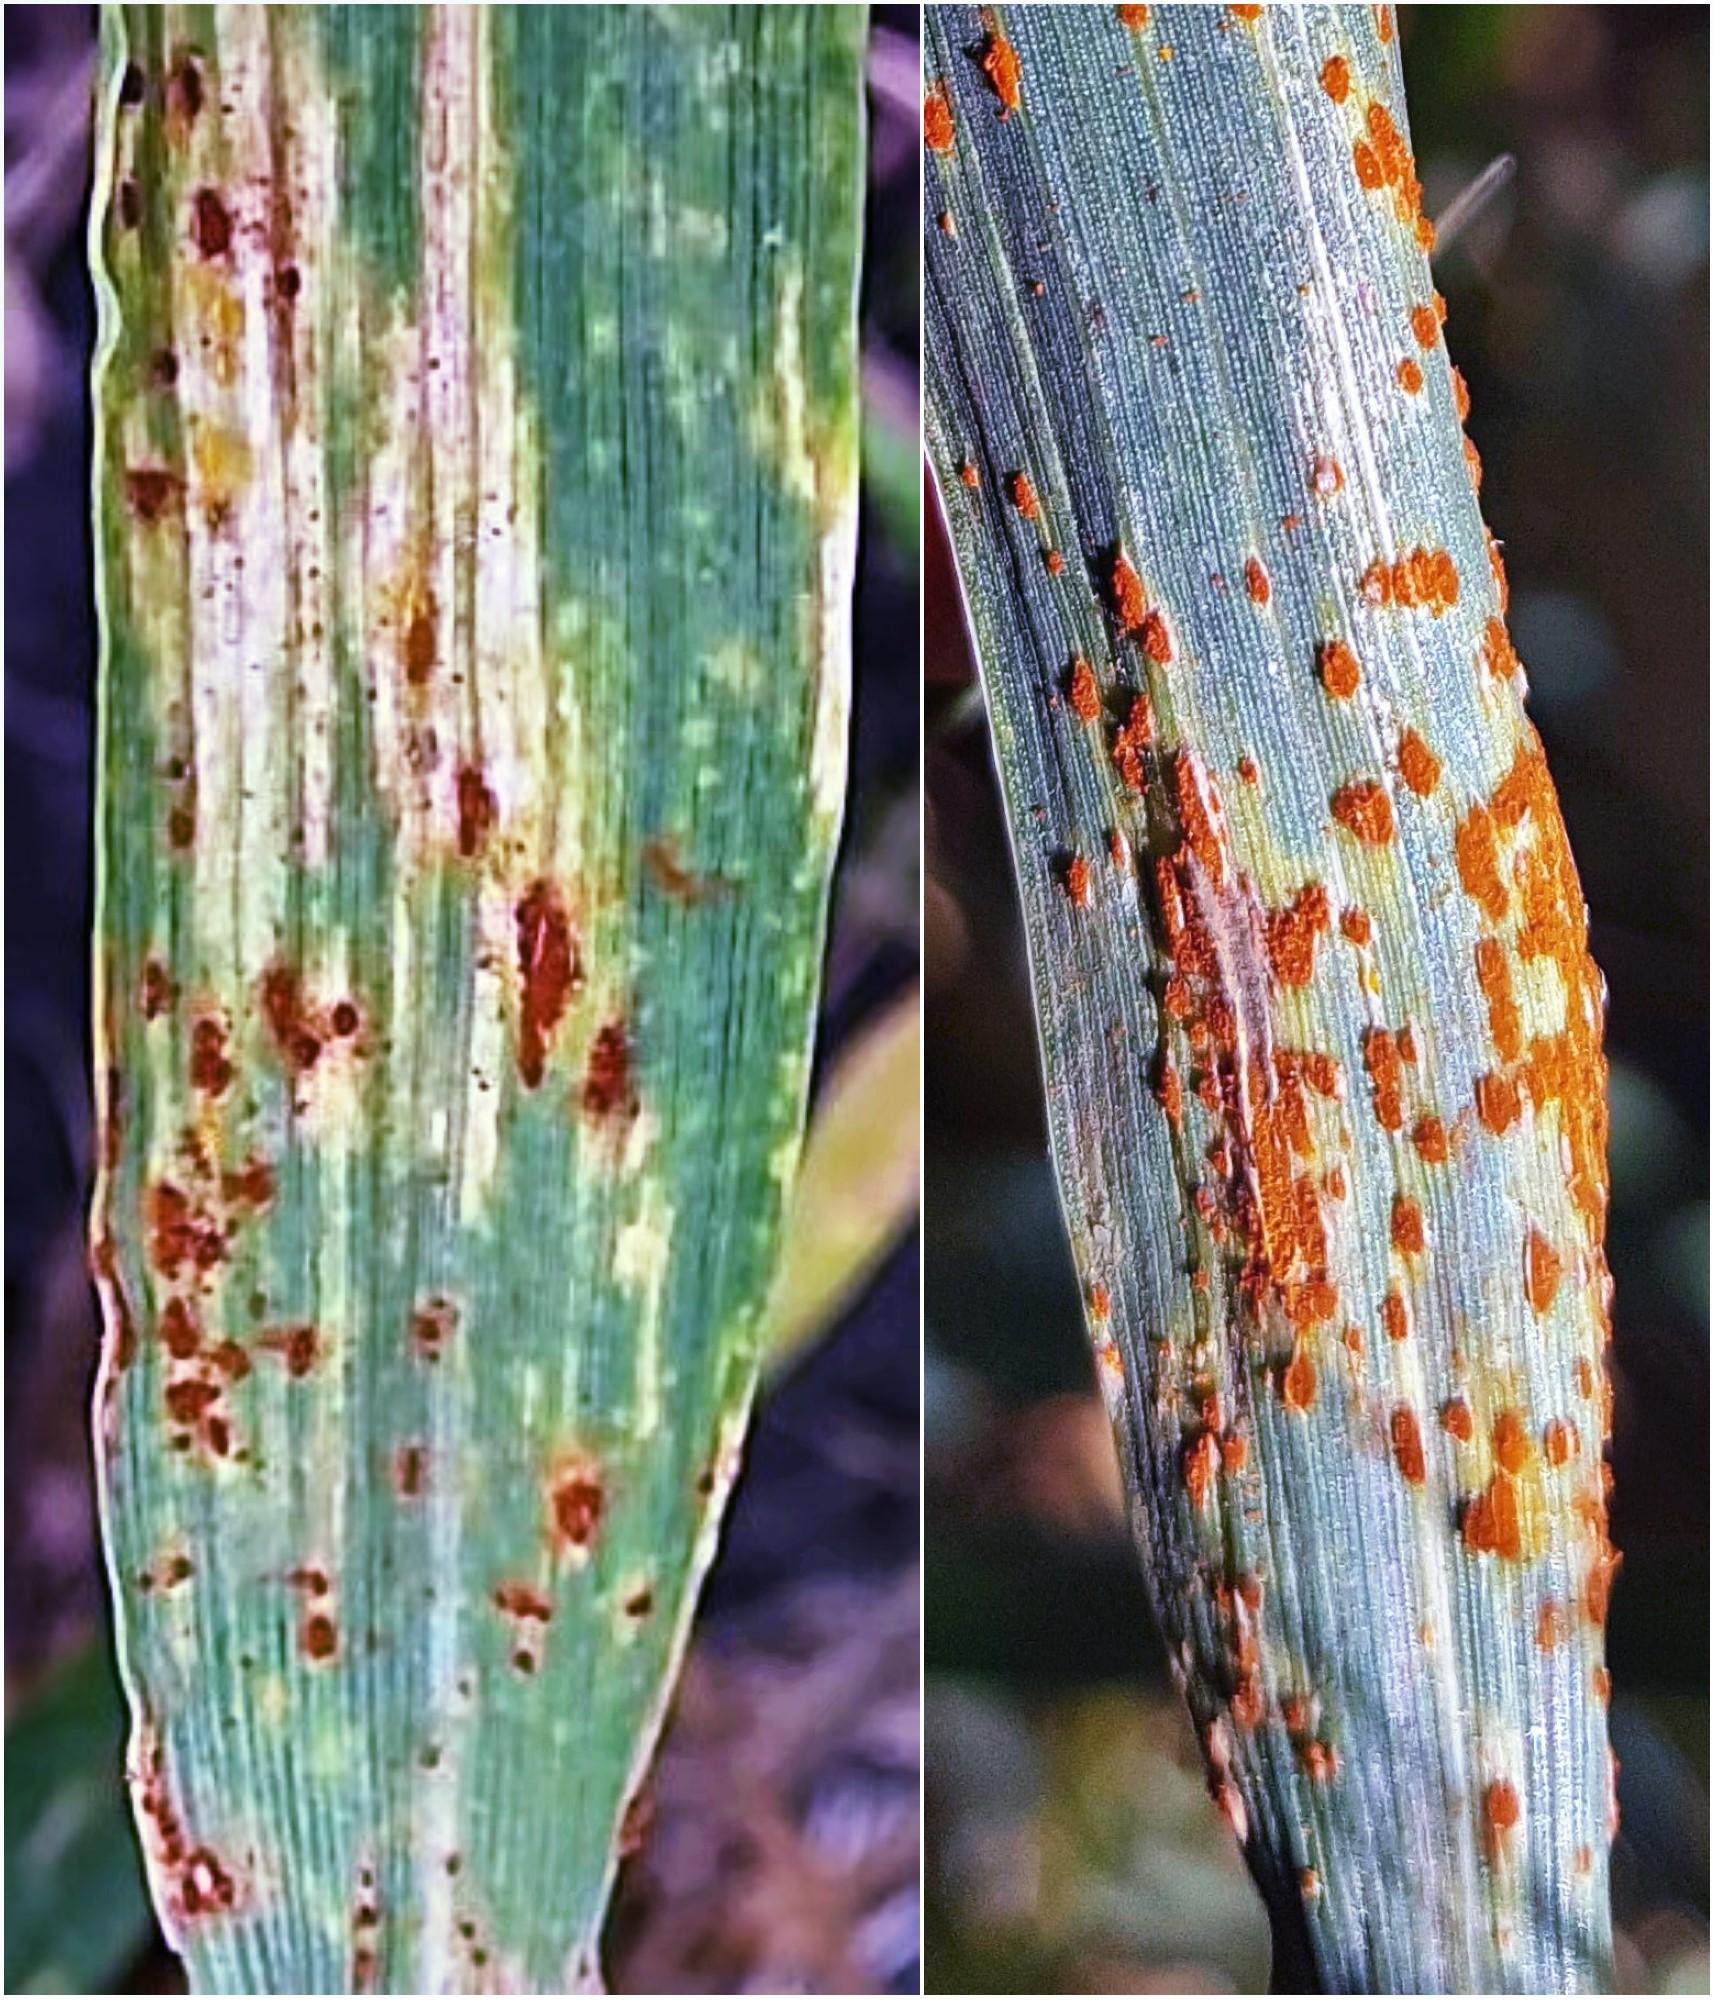Leaf Rust: (968, 221, 1675, 1757), (48, 253, 736, 1740)
